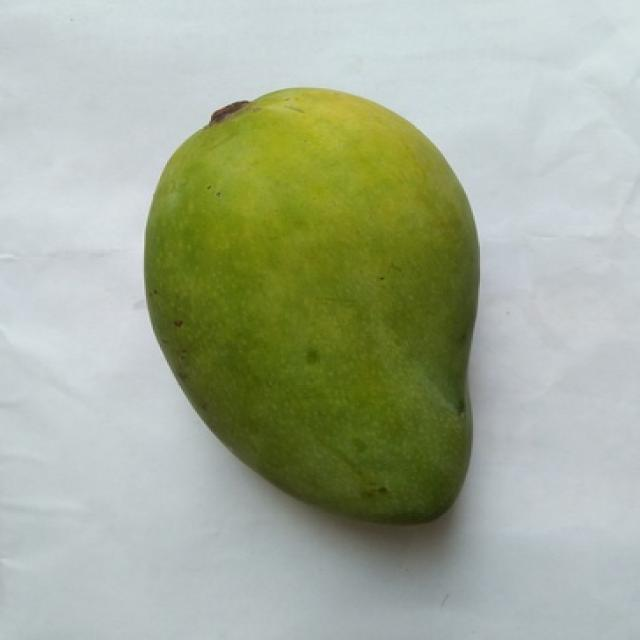Mango: (144, 88, 478, 520)
